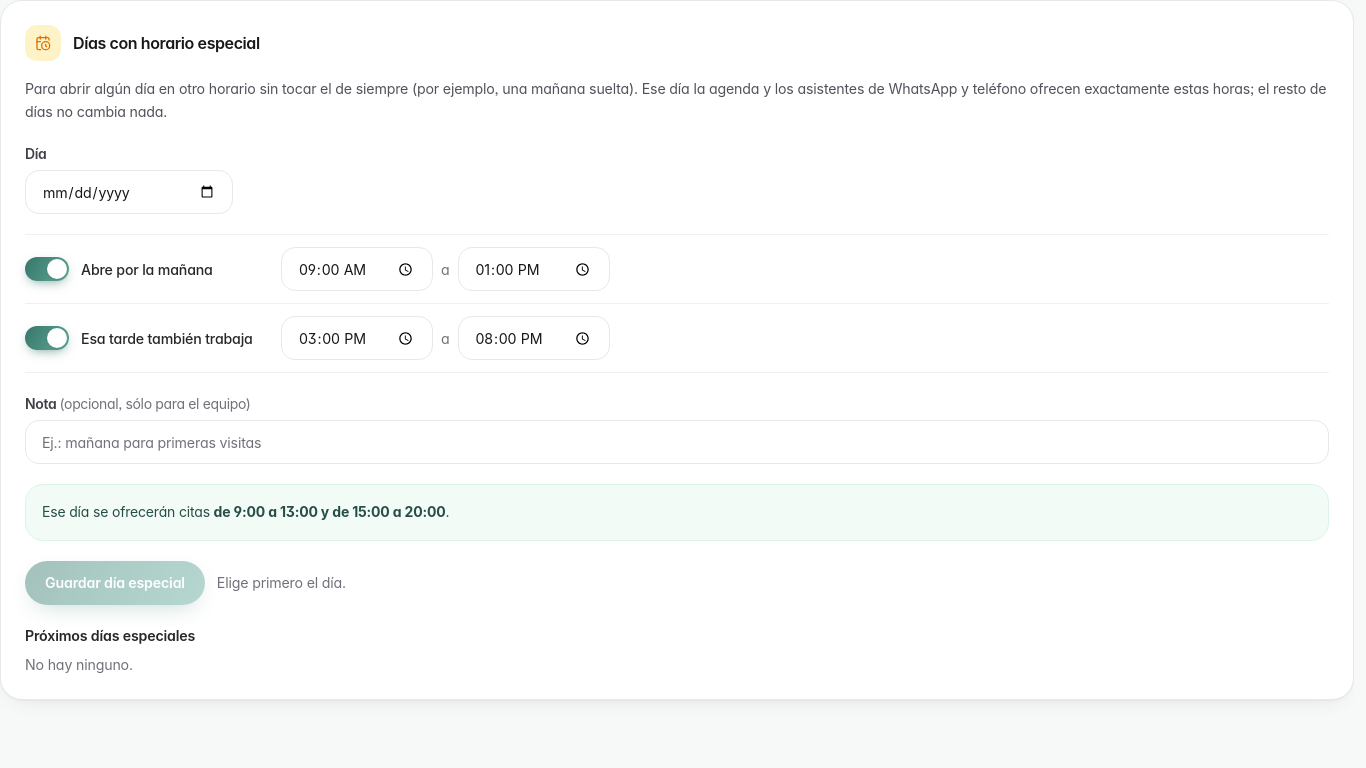
Test case: tarjeta "Días con horario especial" › avisa de las citas que quedan fuera del nuevo horario
Type "2026-11-17" into the date field labelled "Día" at (129, 192), box 25,170 -> 233,214
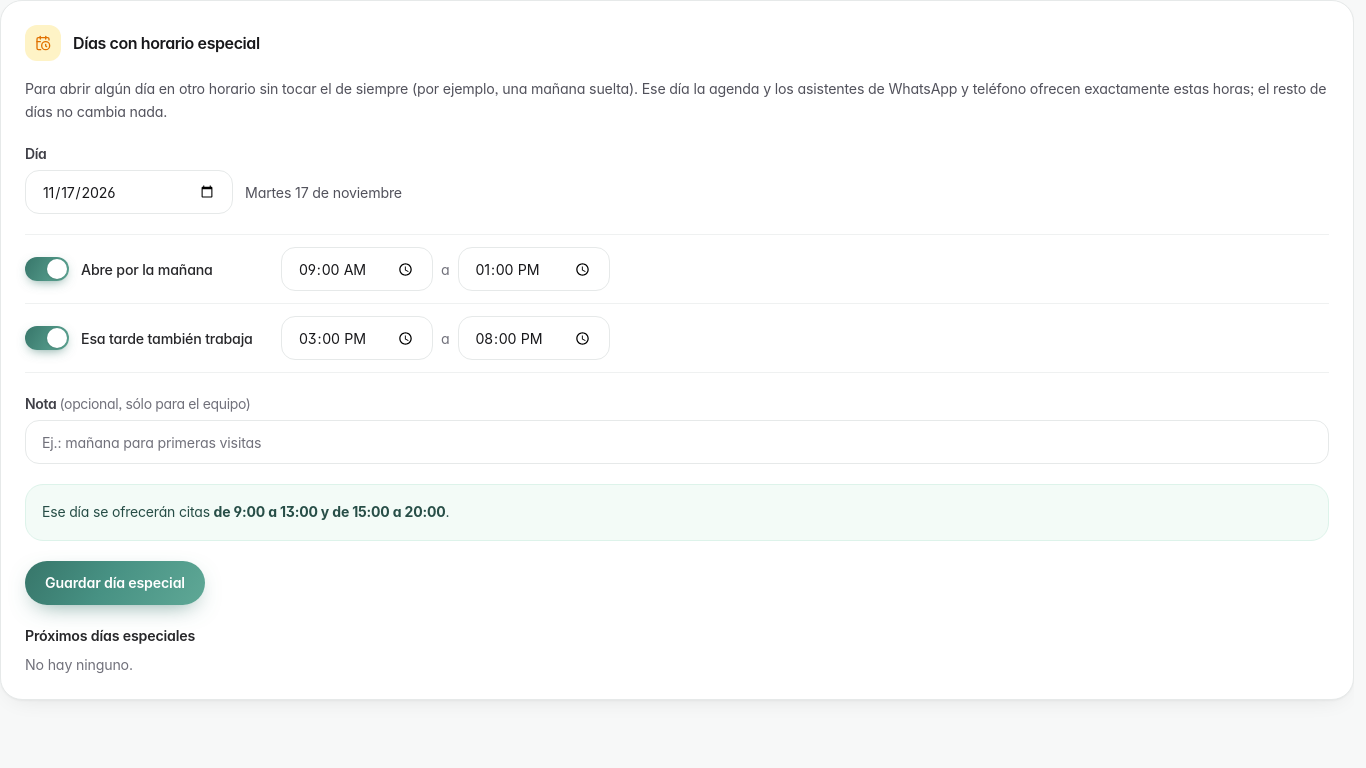
Click the switch named "Esa tarde también trabaja" at (47, 338), box 25,326 -> 69,350
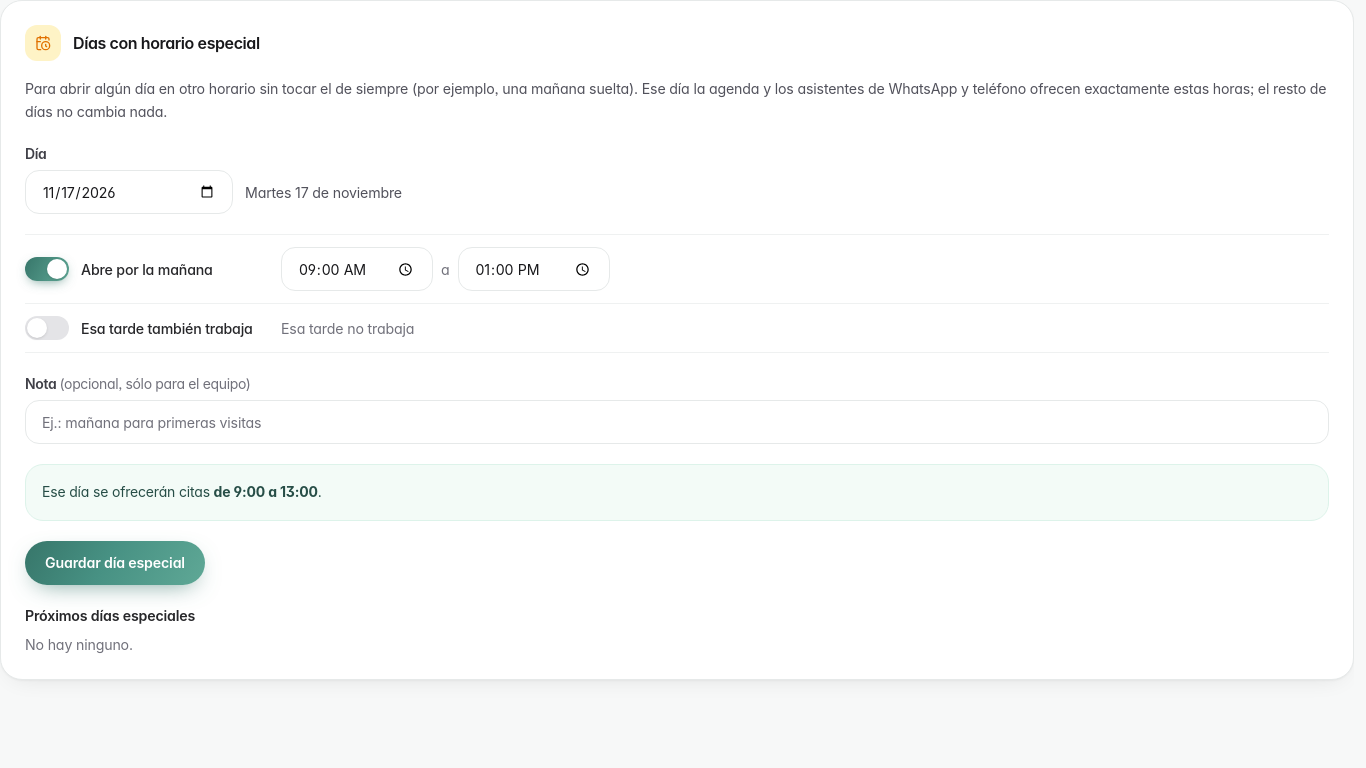
Click the button "Guardar día especial" at (115, 563), box 25,541 -> 205,585
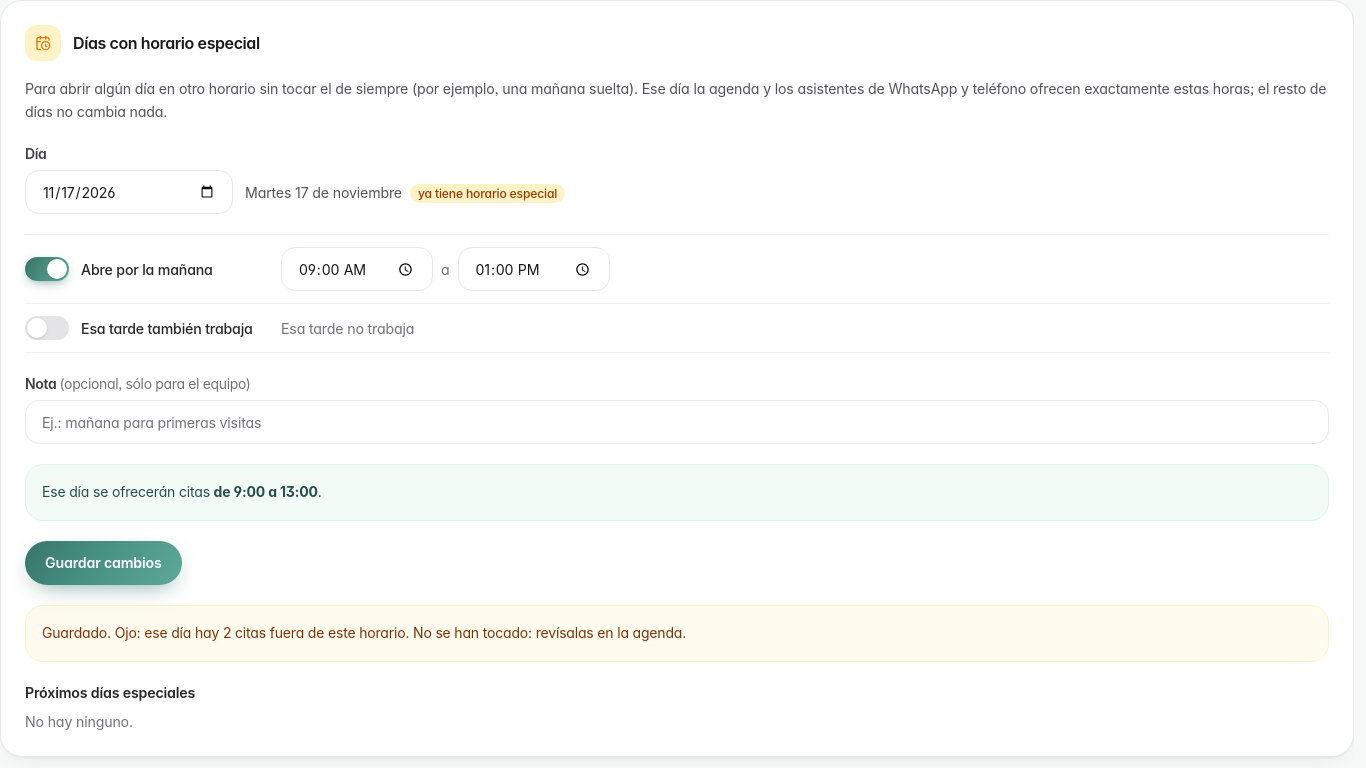
Check: the text "hay 2 citas fuera de este horario" is shown, box 42,624 -> 686,641
